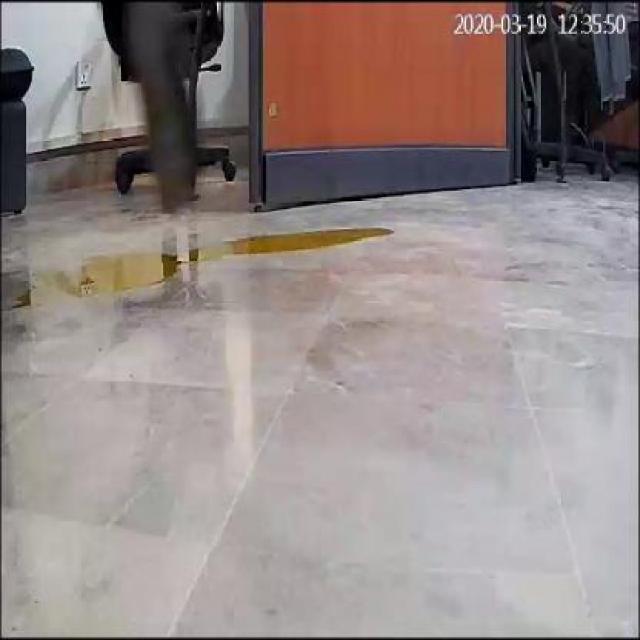spill: (19, 227, 394, 304)
